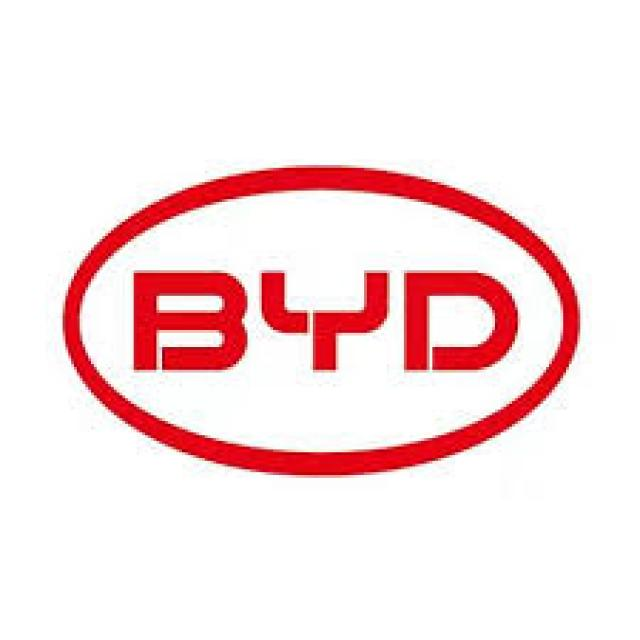byd: (51, 161, 598, 486)
